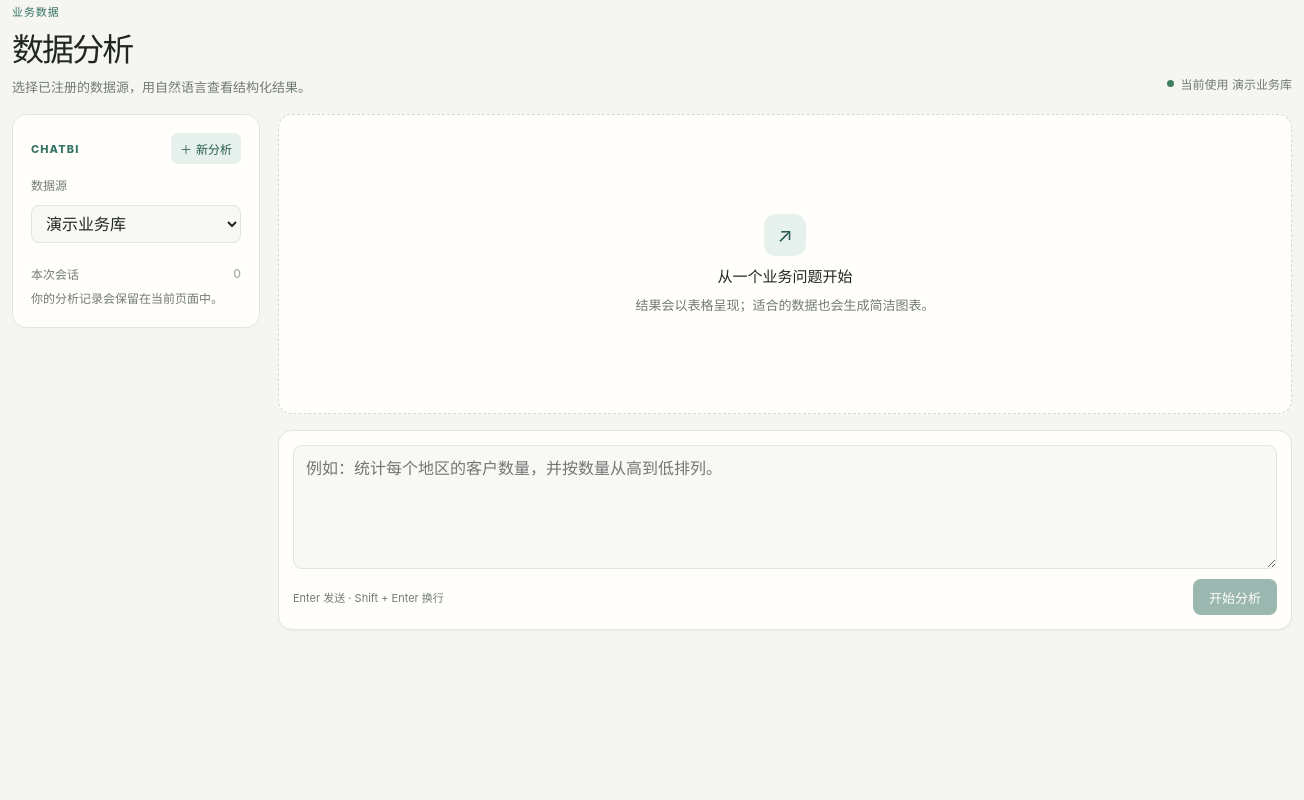
Test: AnalysisView › shows a safe request error and does not submit twice while loading
Expected: the dropdown labelled "数据源" shows "演示业务库", left=31, top=205, right=241, bottom=243
Type "查找销售数量" into the text box with placeholder "例如：统计每个地区的客户数量，并按数量从高到低排列。" at {"x": 785, "y": 507}, box left=293, top=445, right=1277, bottom=569
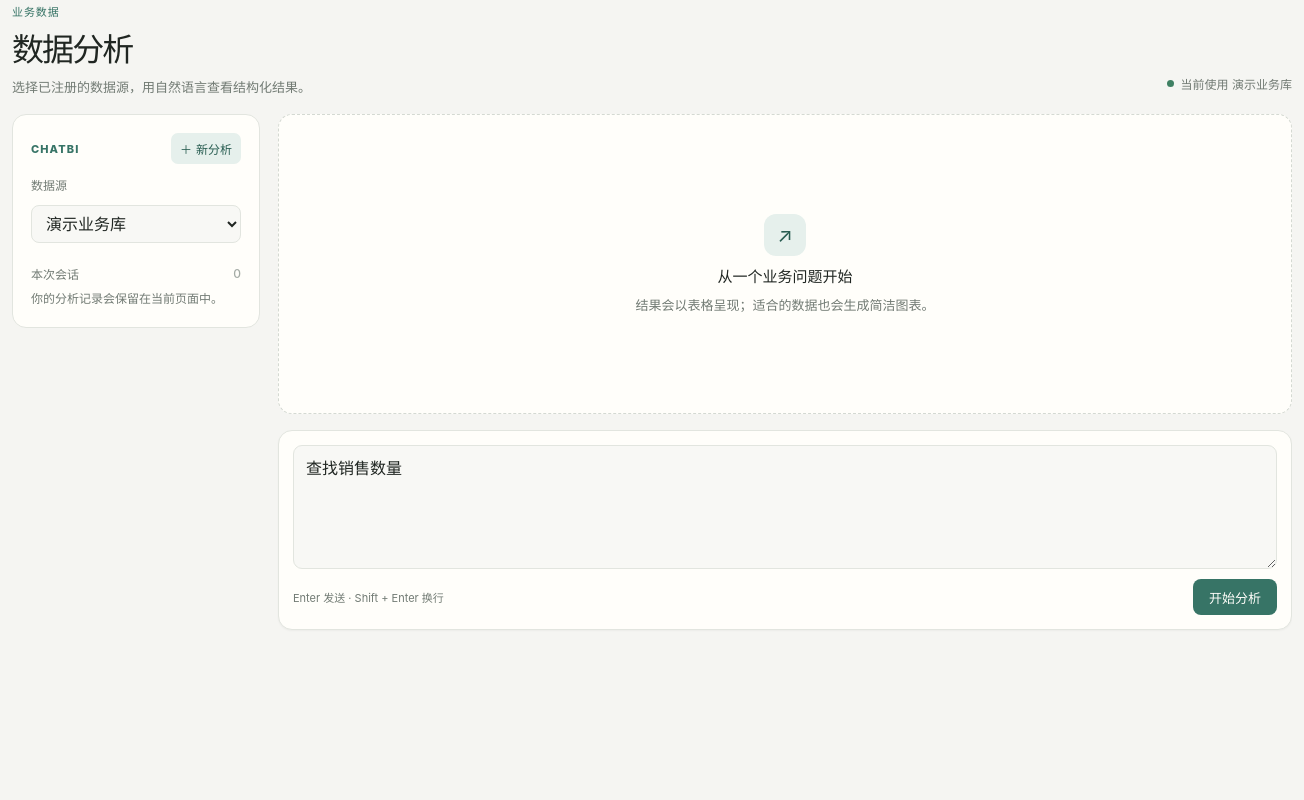
Press Enter in the text box named "分析问题", box left=293, top=445, right=1277, bottom=569
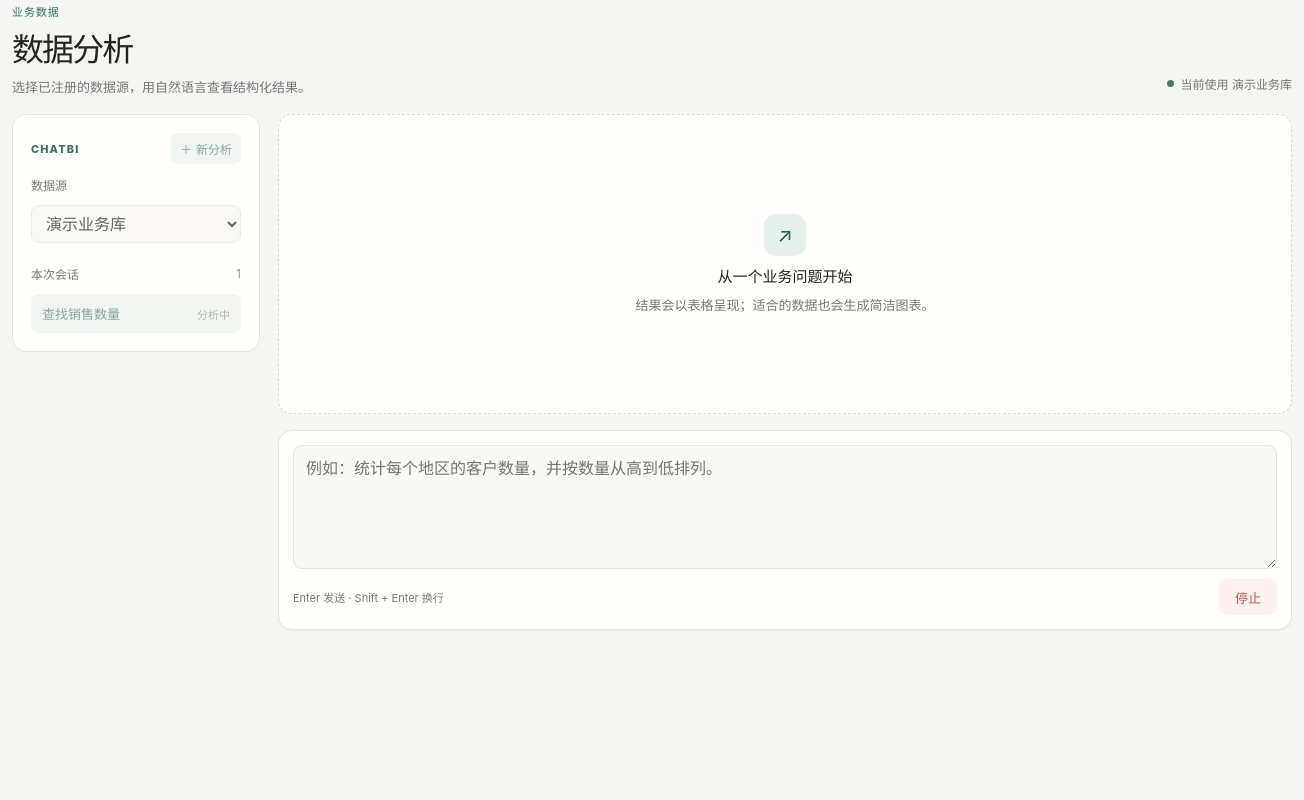
Type "再次提交" into the text box with placeholder "例如：统计每个地区的客户数量，并按数量从高到低排列。" at {"x": 785, "y": 507}, box left=293, top=445, right=1277, bottom=569
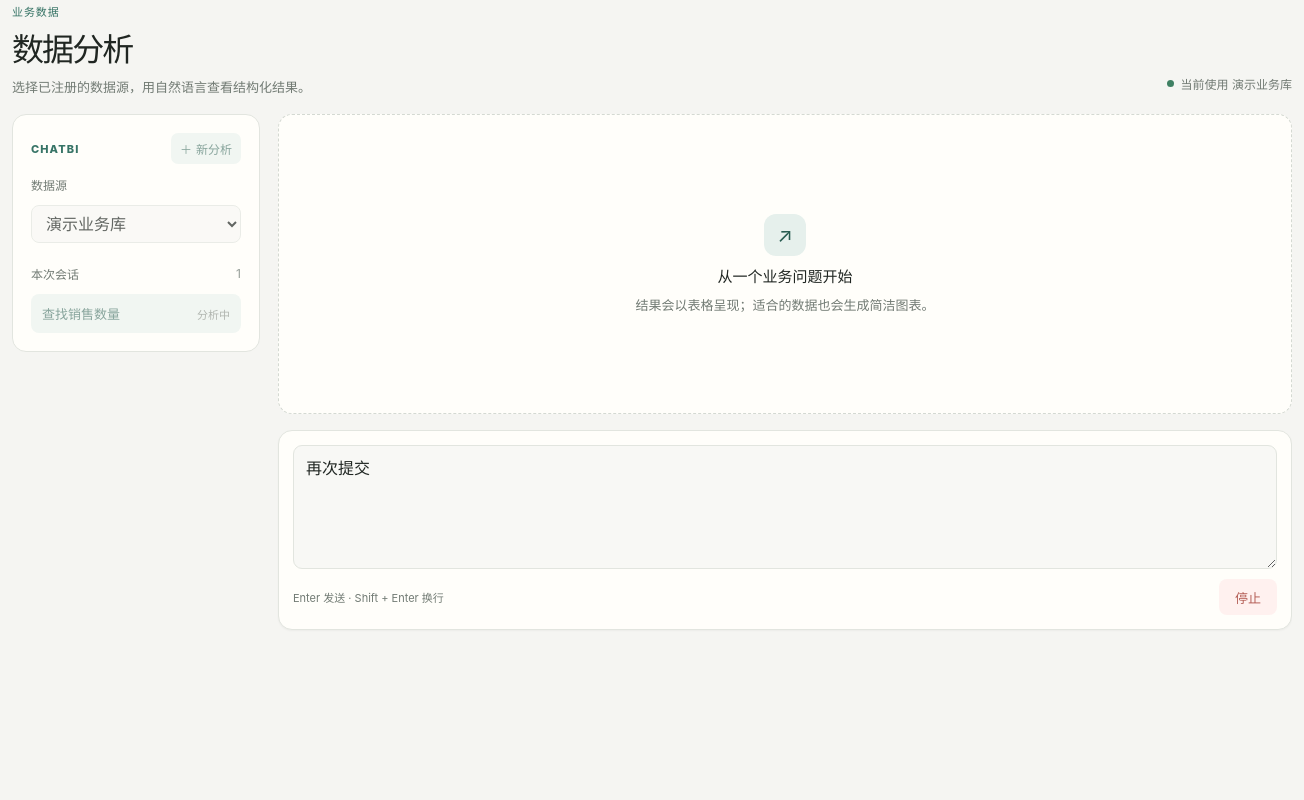
Press Enter in the text box named "分析问题", box left=293, top=445, right=1277, bottom=569
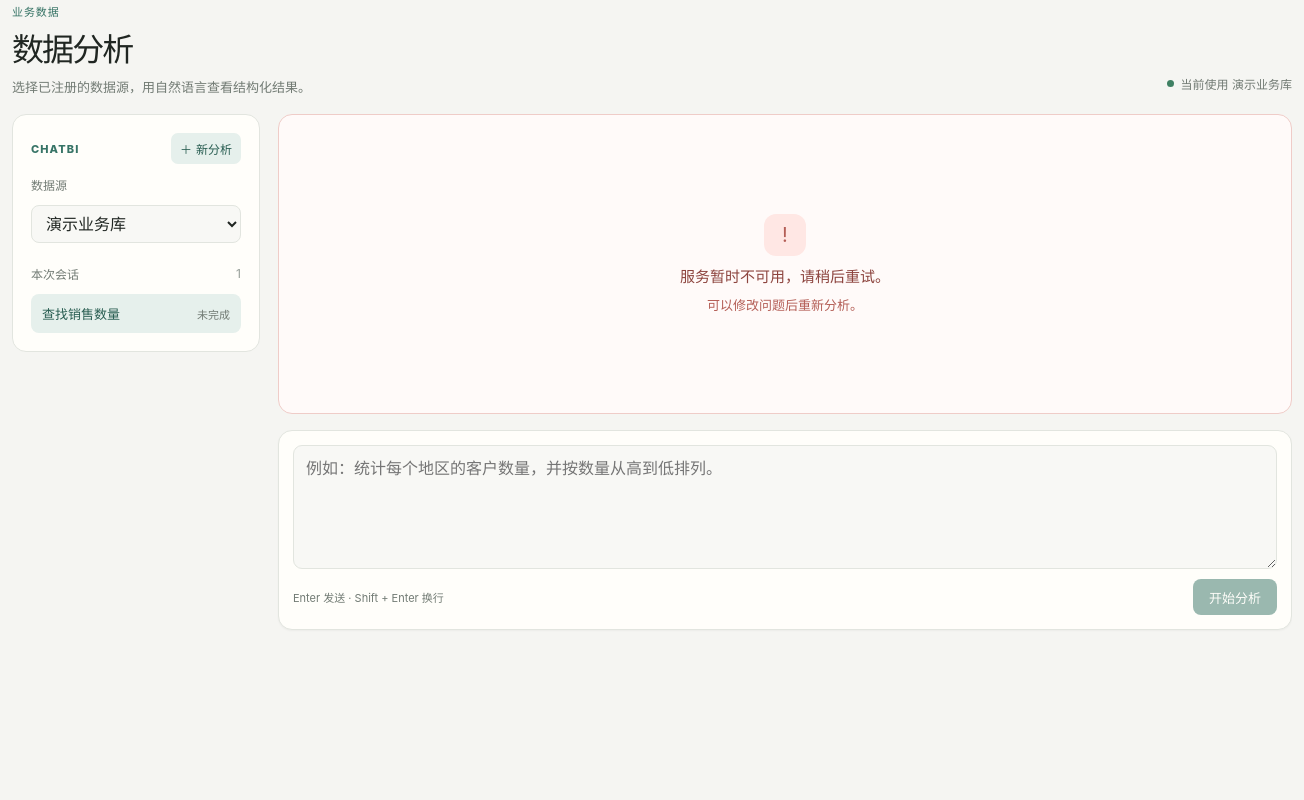
Result: the text "服务暂时不可用" is shown at left=680, top=267, right=890, bottom=286
